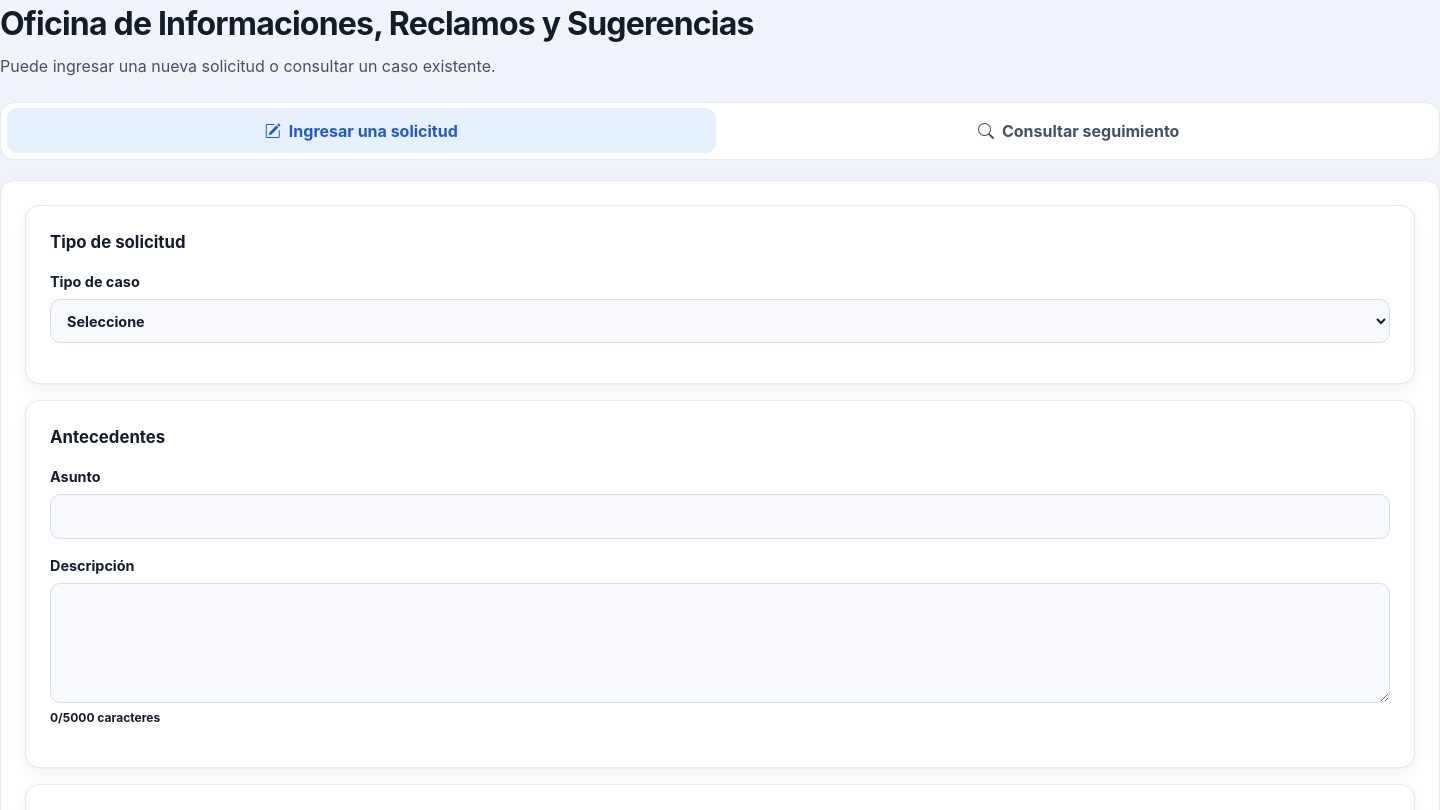
Test case: OirsPage - public › muestra error al consultar seguimiento
Click the tab "Consultar seguimiento".
click(1079, 131)  # box [724,108,1433,153]
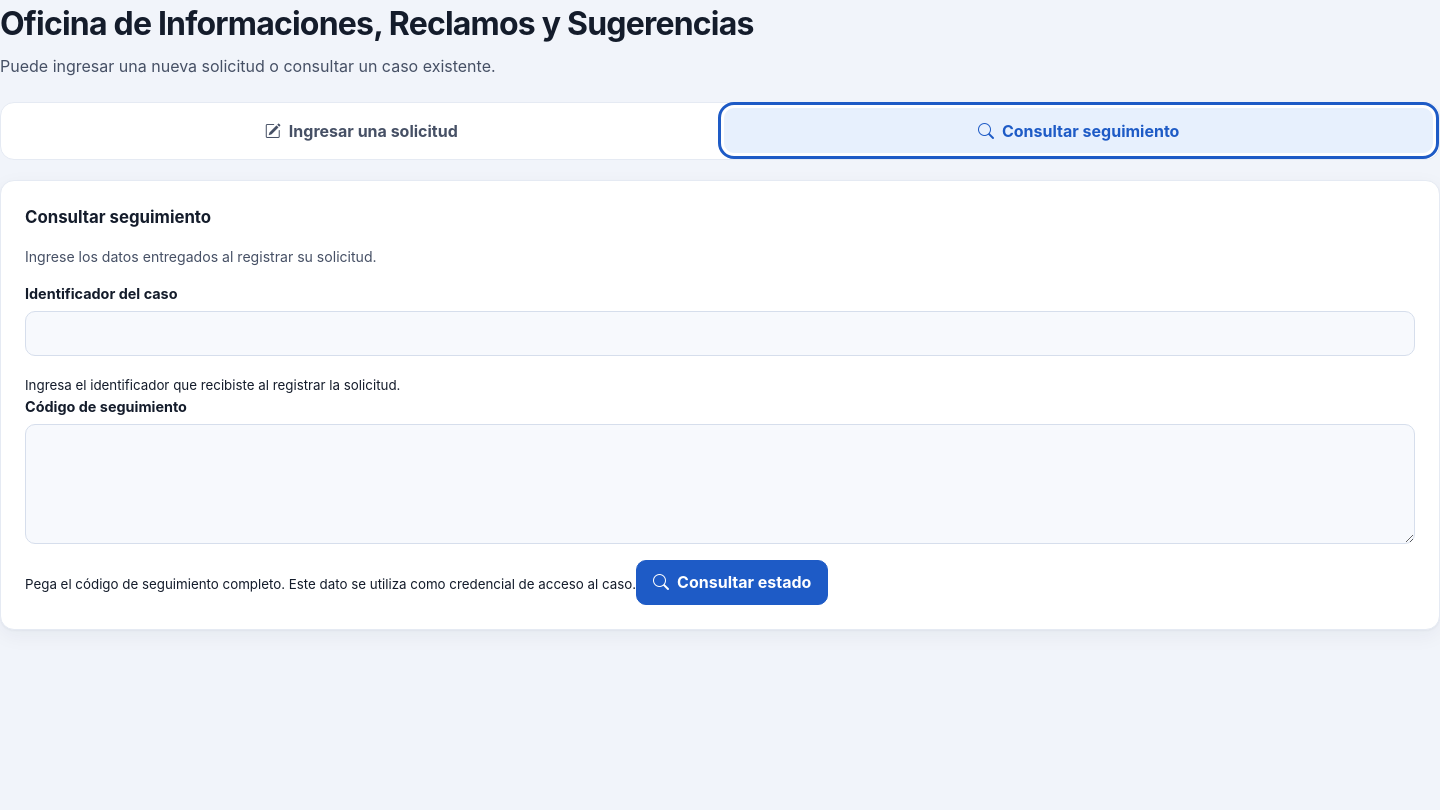
Type "a0000000-0000-4000-8000-000000000001" into the field labelled "Identificador del caso".
click(720, 334); type("a0000000-0000-4000-8000-000000000001")  # box [25,311,1415,356]
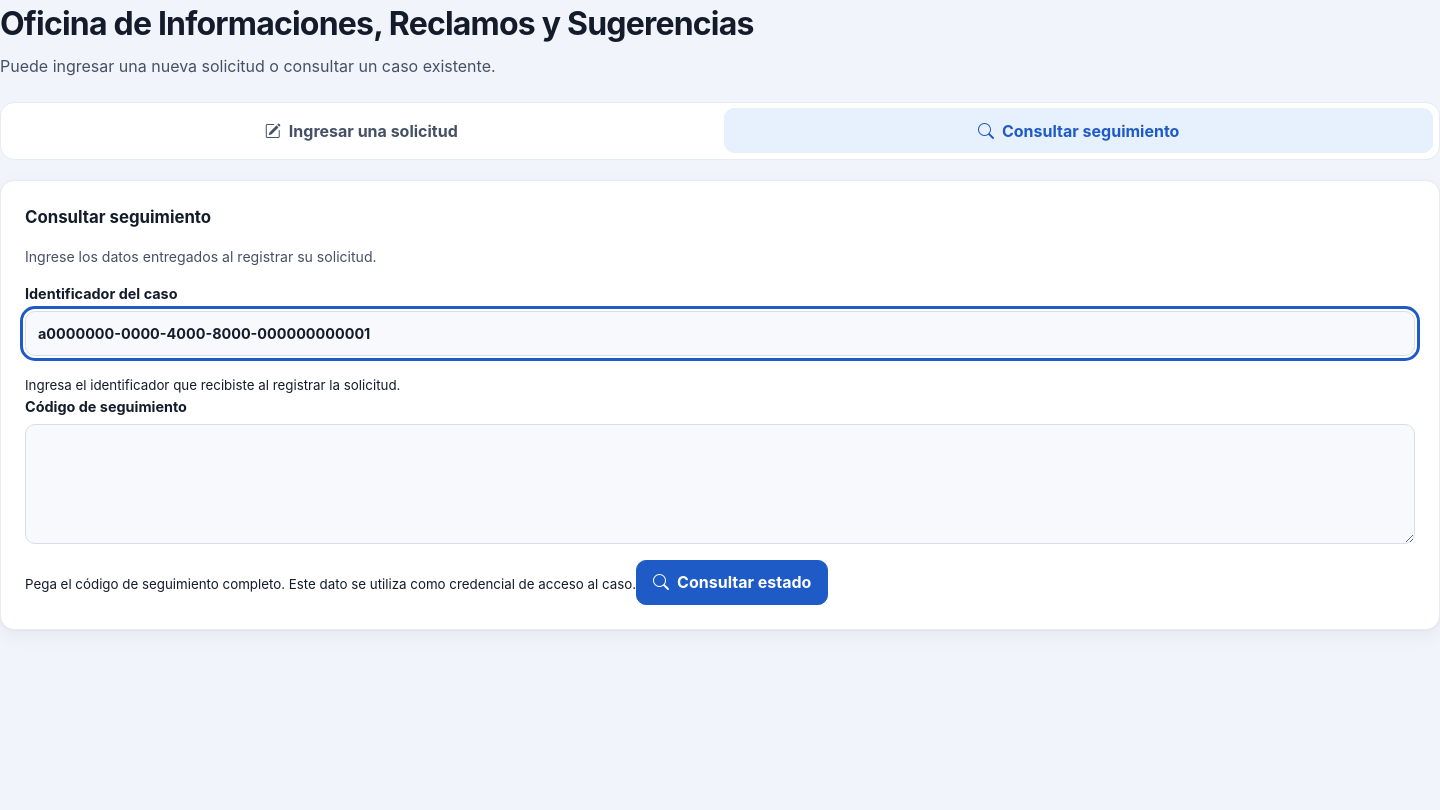
Type "tracking-token" into the text box labelled "Código de seguimiento".
click(720, 484); type("tracking-token")  # box [25,424,1415,544]
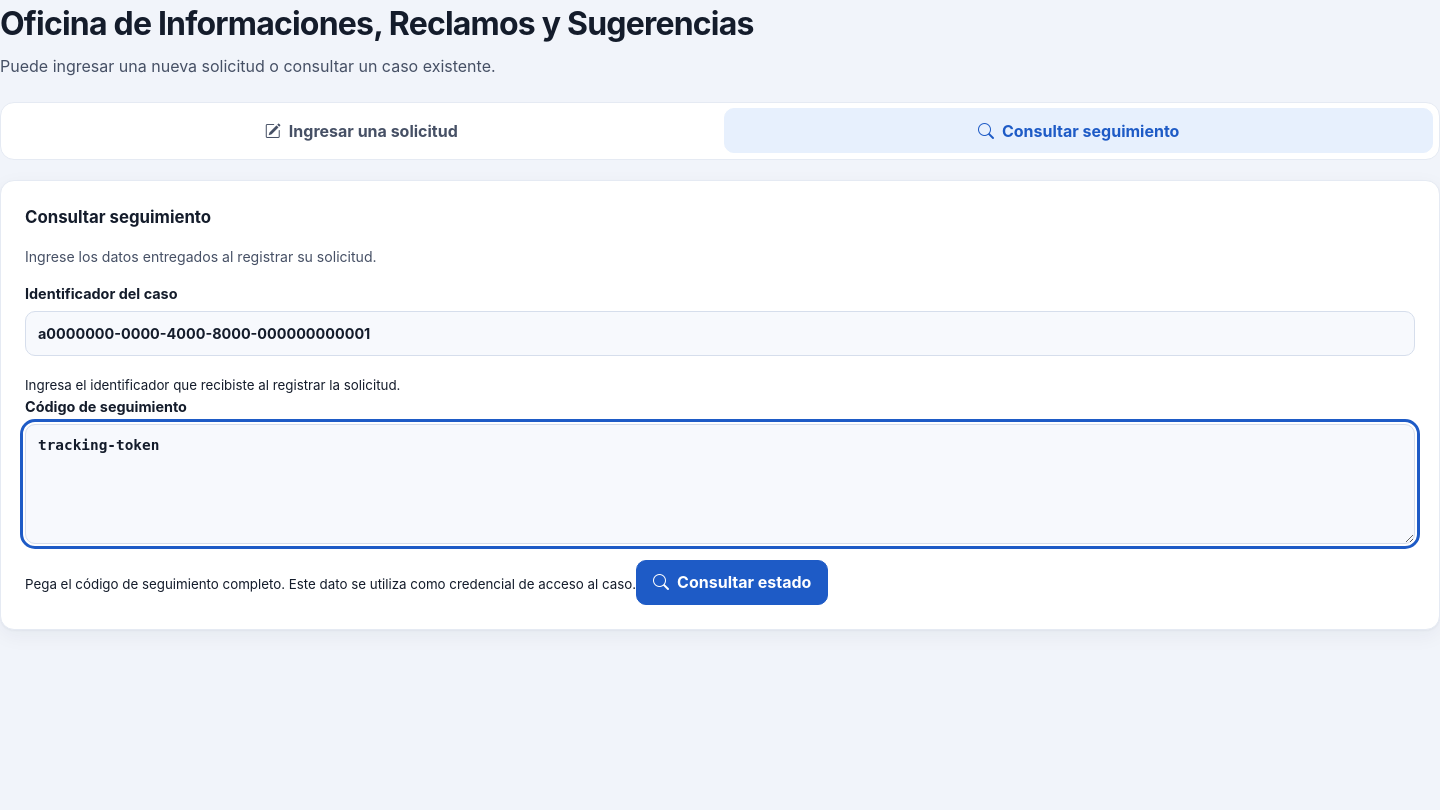
Click the button "Consultar estado".
click(732, 582)  # box [636,560,828,605]
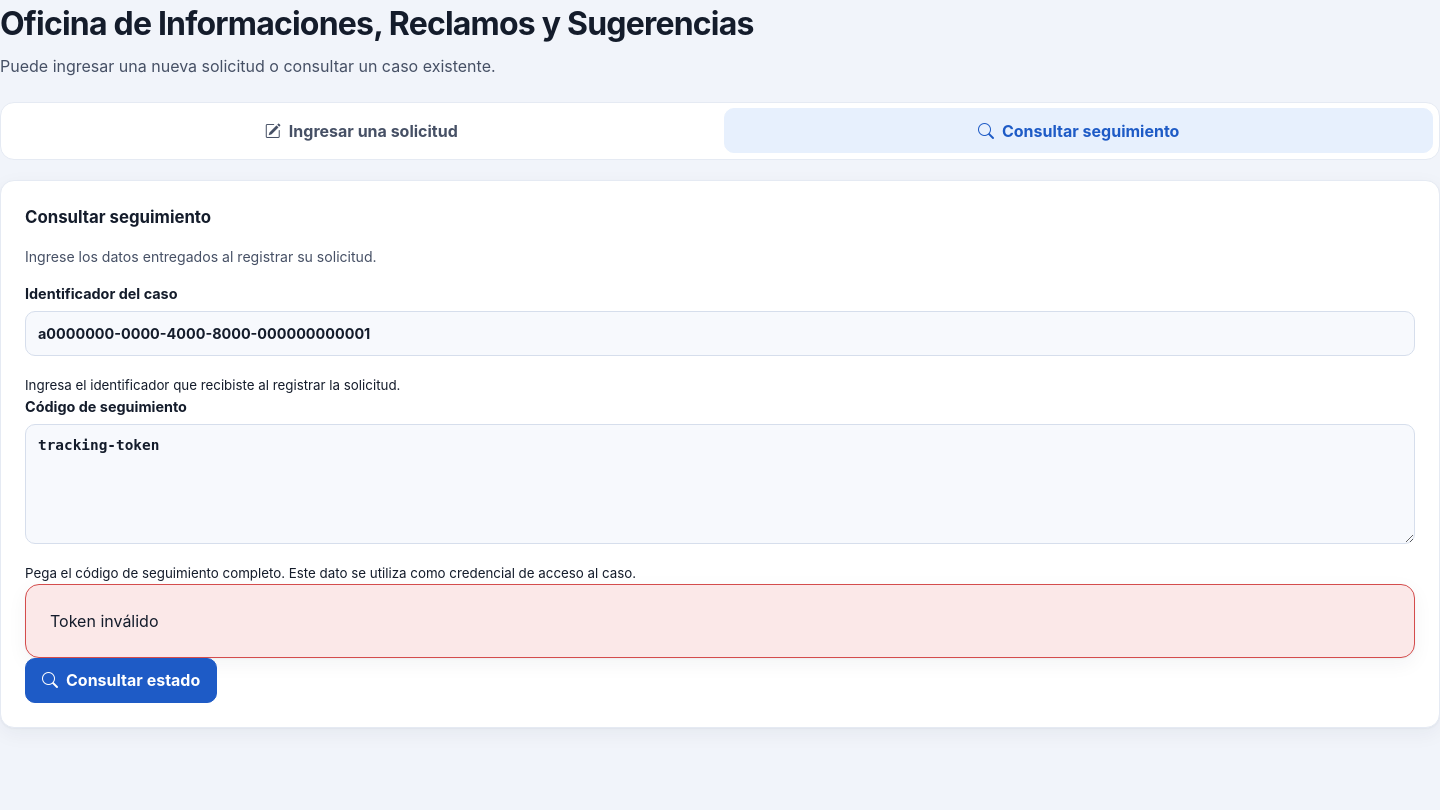
Expected: the text "Token inválido" is shown, [25,584,1415,658]
